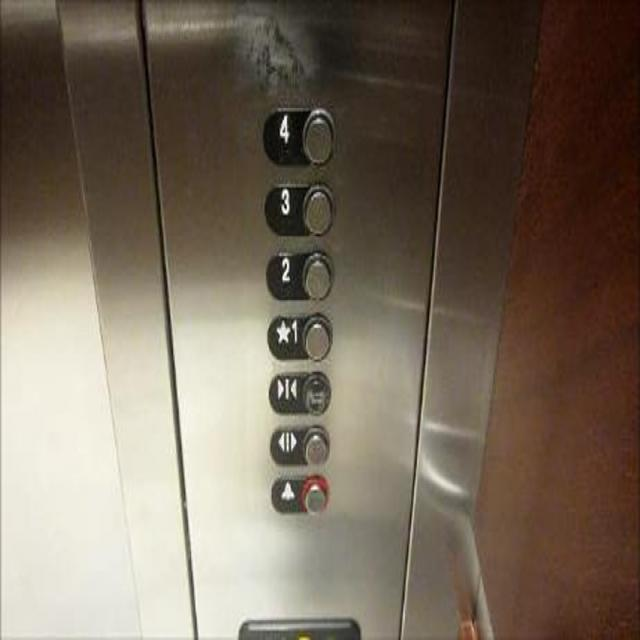2: (264, 247, 333, 301)
3: (263, 180, 334, 239)
4: (262, 103, 335, 168)
alarm: (269, 471, 328, 516)
close: (267, 368, 331, 416)
open: (269, 420, 330, 468)
s1: (266, 312, 333, 361)
